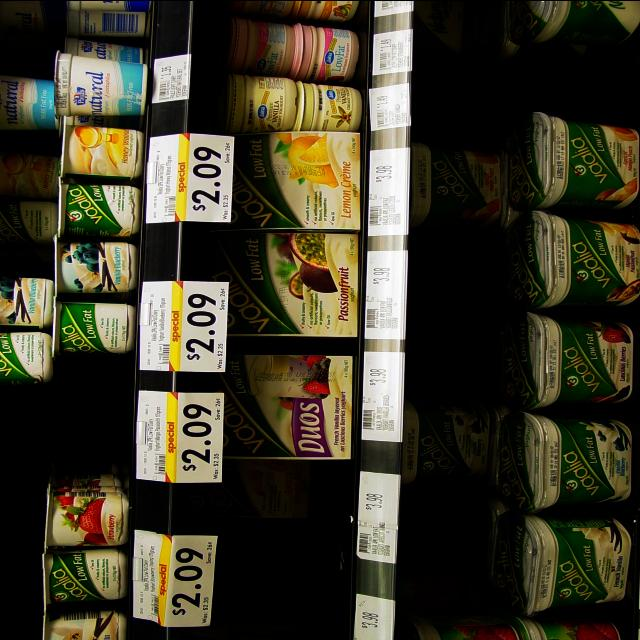empty_space: (423, 54, 627, 114), (220, 520, 328, 620), (13, 393, 123, 463)
